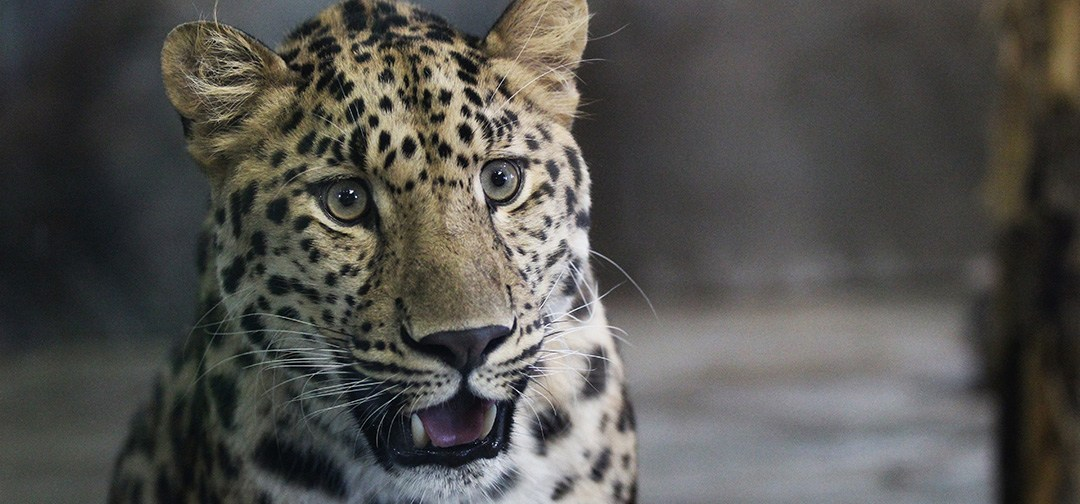amur_leopard: (150, 6, 673, 504)
